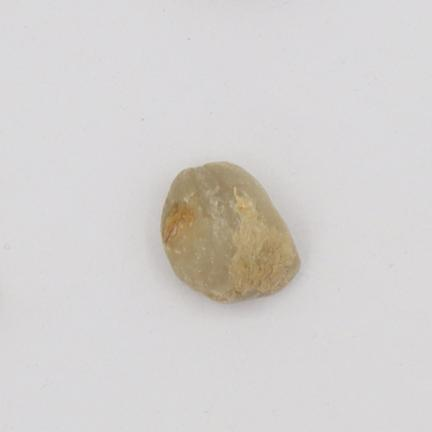shell: (162, 162, 299, 302)
